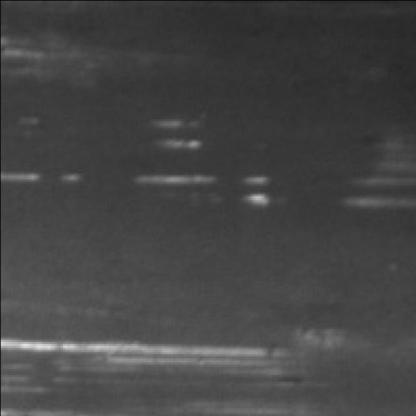scratches: (4, 333, 335, 385)
